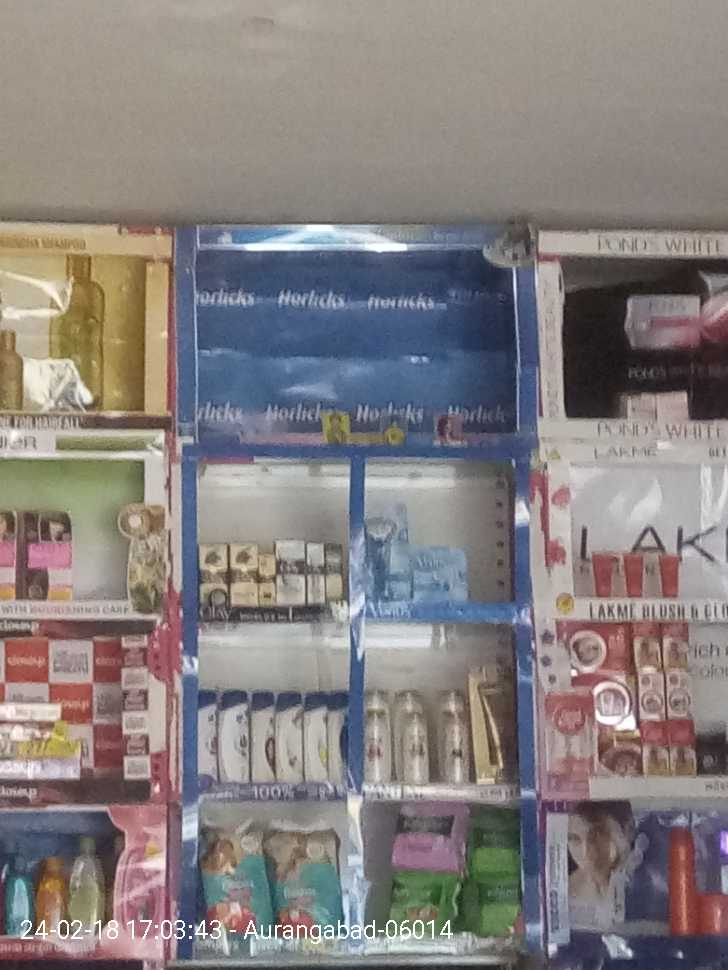venus: (368, 504, 409, 598), (409, 547, 465, 598)
